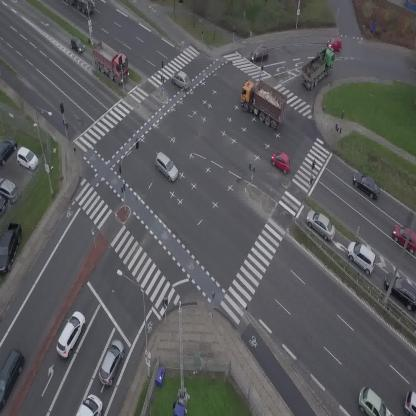car: (51, 308, 90, 359), (0, 347, 30, 408), (95, 337, 129, 388), (342, 237, 383, 276), (301, 205, 341, 244), (350, 384, 394, 416), (349, 169, 385, 201), (150, 151, 183, 183), (267, 148, 296, 175), (168, 67, 194, 92), (66, 34, 87, 57), (250, 46, 269, 61), (405, 391, 416, 416), (327, 37, 341, 51)
lorry: (231, 74, 295, 131), (83, 36, 138, 87), (295, 44, 343, 91), (76, 394, 103, 416), (64, 0, 94, 14)
